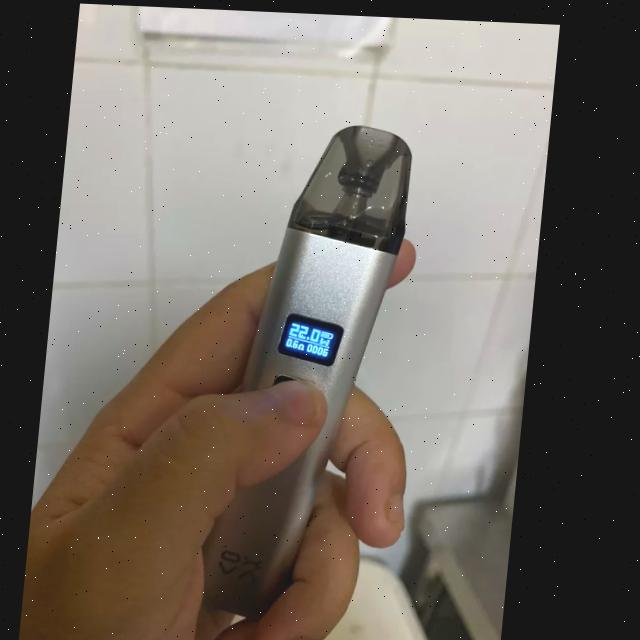vape: (221, 118, 419, 618)
